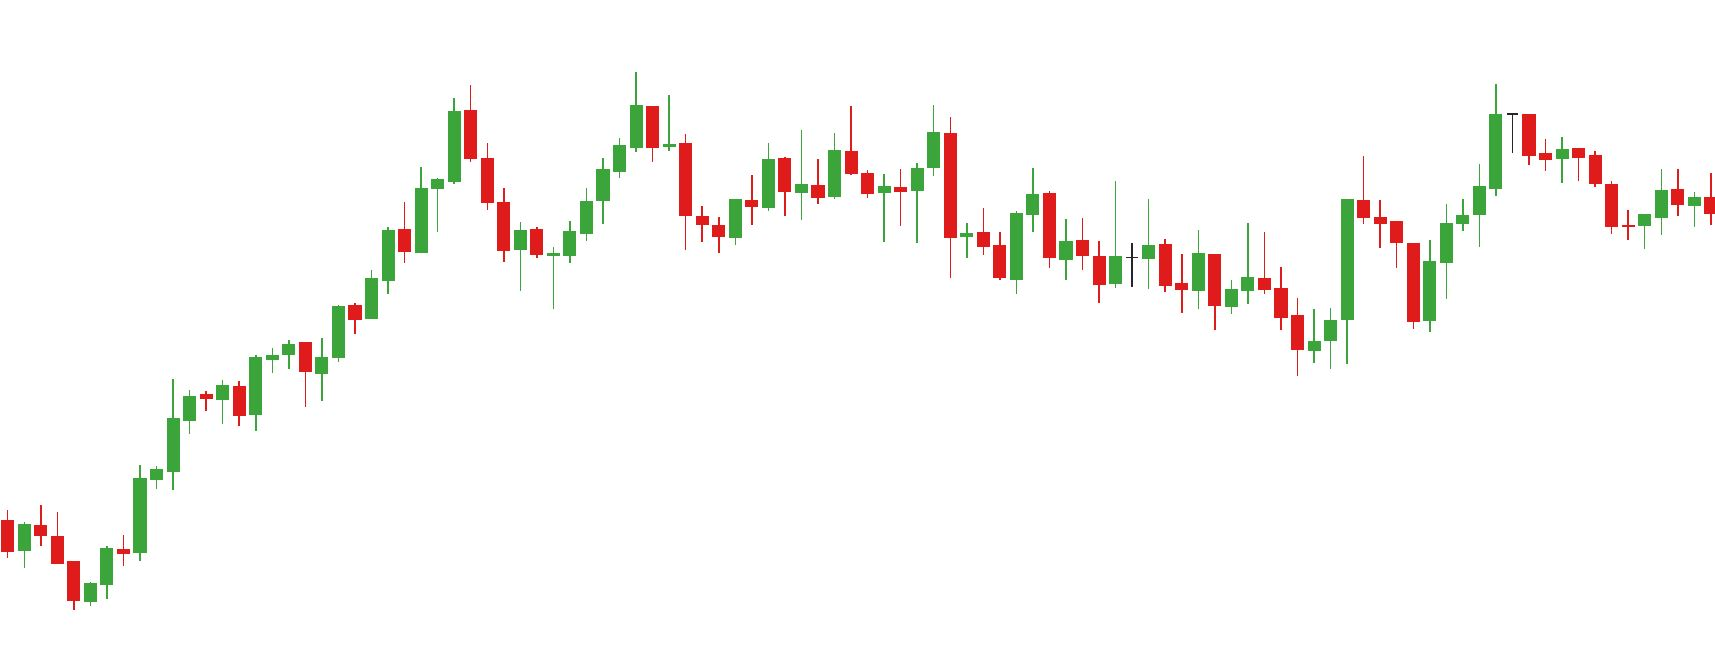sell: (460, 68, 661, 215)
